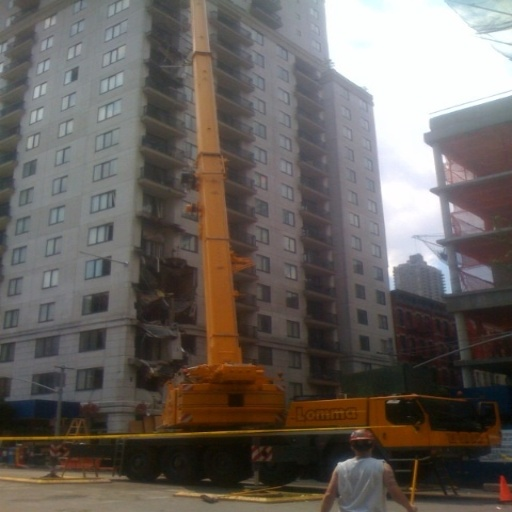hand: (402, 504, 412, 509)
